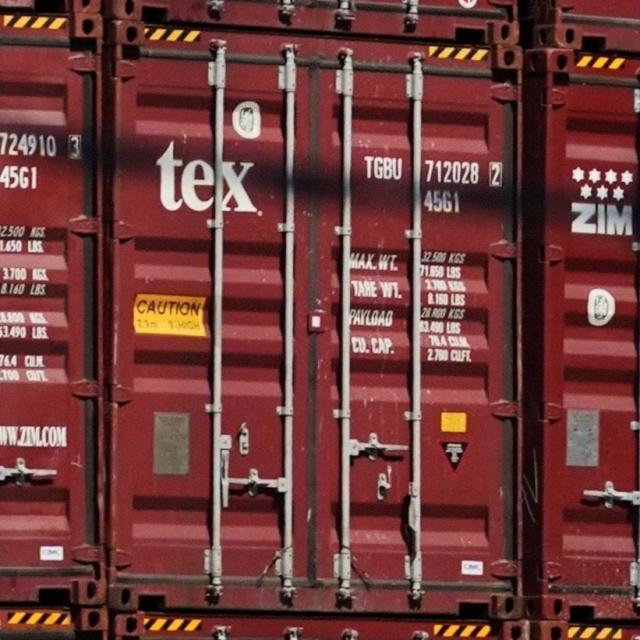ISO: (424, 190, 464, 213)
container_number: (364, 158, 504, 188)
